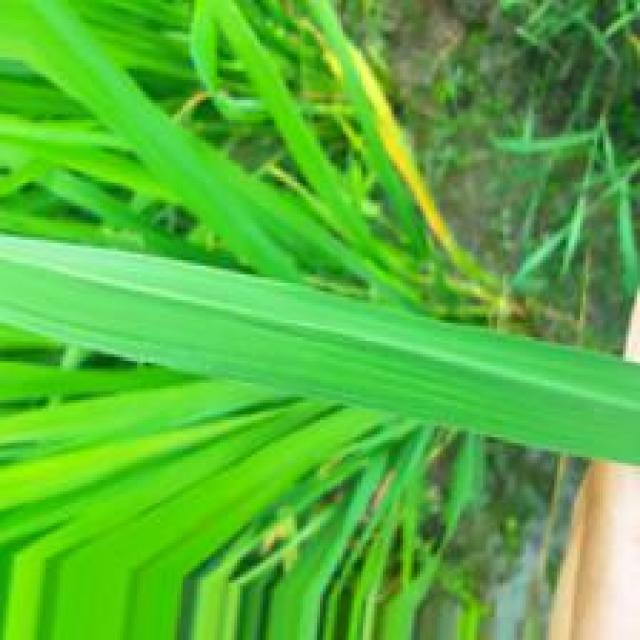HealthyLeaf: (0, 234, 640, 464)
